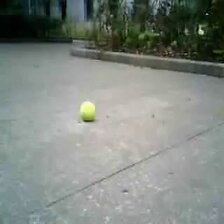tennis: (79, 101, 96, 120)
